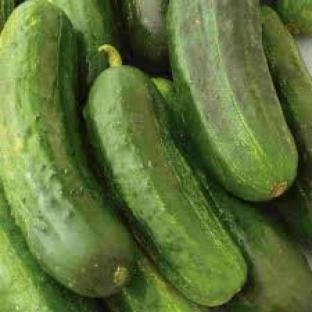Cucumber: (85, 46, 246, 306), (156, 80, 311, 311), (0, 189, 98, 311), (263, 7, 311, 242), (107, 256, 207, 311)
